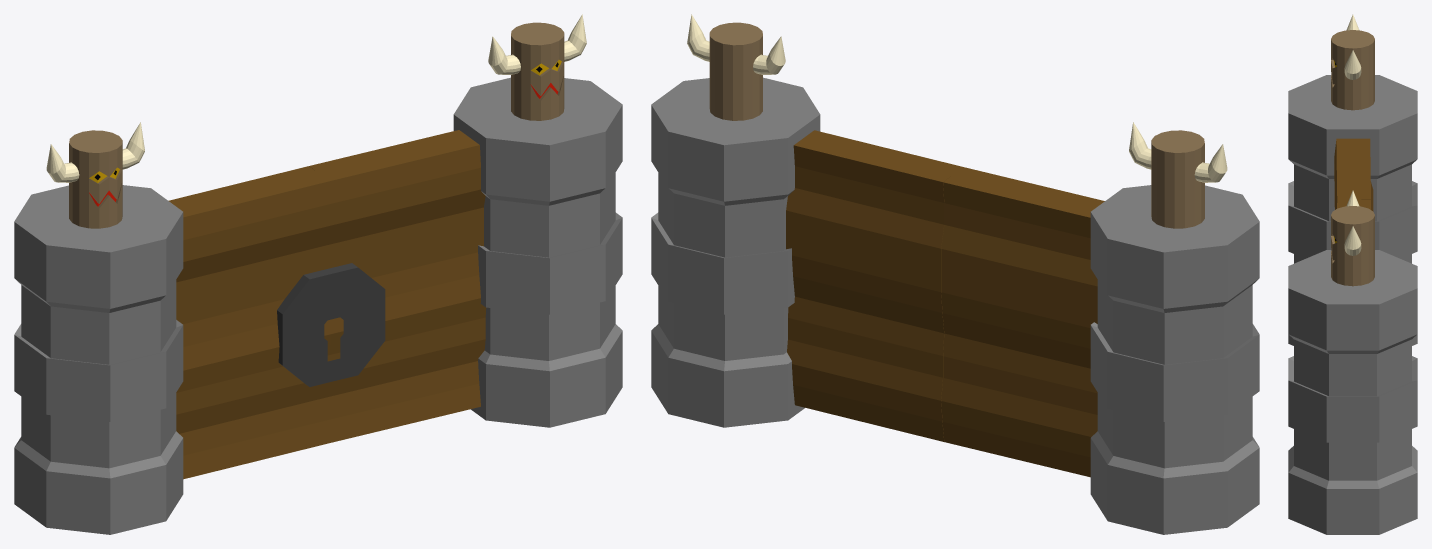
Rendered from Gate.fbx.
3 renders of one model, left to right at view 1: azimuth 30°, elevation 25°; view 2: azimuth 150°, elevation 25°; view 3: azimuth 270°, elevation 25°, orthographic. The views are drawn at different scales.
Parts seen in each view (by area): view 1: LeftPillar, RightPillar, RightDoor, LeftDoor, LeftTotem, RightTotem; view 2: LeftPillar, RightPillar, RightDoor, LeftDoor, LeftTotem, RightTotem; view 3: RightPillar, LeftPillar, RightTotem, LeftTotem, LeftDoor, RightDoor.
Boxes of the visible parts, x1=… form: LeftPillar: x1=14, y1=185, x2=183, y2=534; RightPillar: x1=453, y1=77, x2=622, y2=427; RightDoor: x1=309, y1=130, x2=486, y2=442; LeftDoor: x1=168, y1=166, x2=333, y2=479; LeftTotem: x1=46, y1=122, x2=144, y2=228; RightTotem: x1=488, y1=14, x2=586, y2=120; LeftPillar: x1=1090, y1=185, x2=1259, y2=534; RightPillar: x1=651, y1=77, x2=820, y2=427; RightDoor: x1=786, y1=130, x2=963, y2=441; LeftDoor: x1=941, y1=167, x2=1104, y2=477; LeftTotem: x1=1129, y1=122, x2=1227, y2=228; RightTotem: x1=687, y1=14, x2=785, y2=120; RightPillar: x1=1288, y1=250, x2=1417, y2=534; LeftPillar: x1=1288, y1=75, x2=1417, y2=345; RightTotem: x1=1331, y1=190, x2=1374, y2=286; LeftTotem: x1=1331, y1=14, x2=1374, y2=110; LeftDoor: x1=1334, y1=138, x2=1373, y2=211; RightDoor: x1=1336, y1=199, x2=1370, y2=209.
Bounding box in the file's own units: 842 × 512 × 200.
